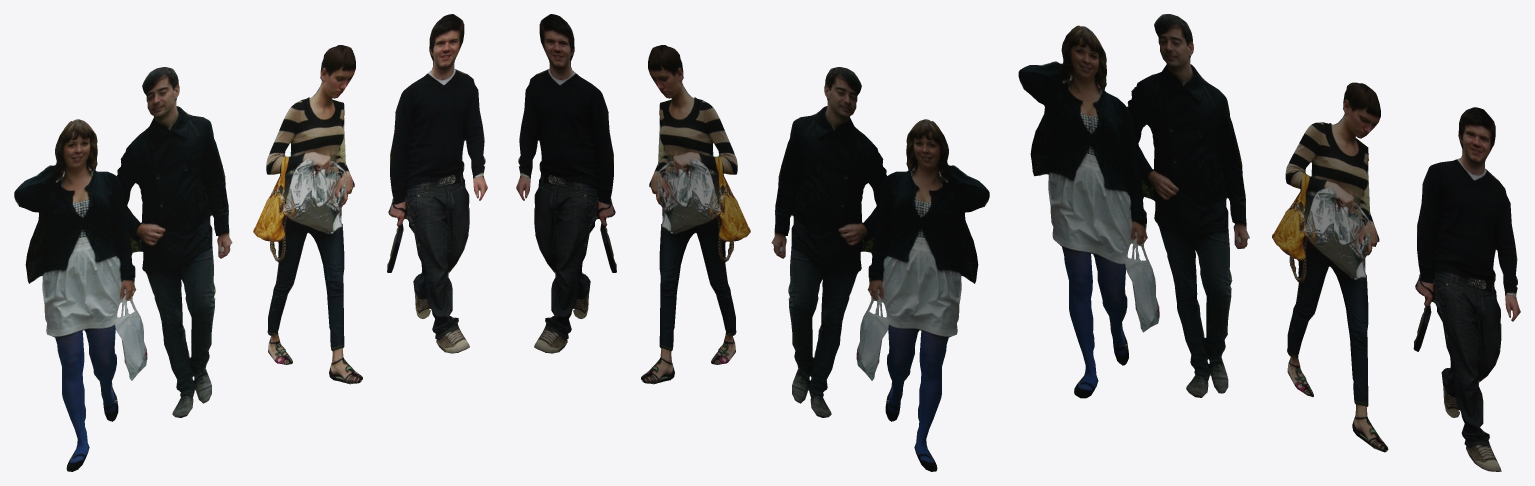
3 renders of one model, left to right at view 1: azimuth 30°, elevation 25°; view 2: azimuth 150°, elevation 25°; view 3: azimuth 330°, elevation 25°, orthographic. The views are drawn at different scales.
Visible parts, largest first — view 1: SketchUp (×3); view 2: SketchUp (×3); view 3: SketchUp (×3).
Part boxes in pixels (x1=…): SketchUp (×3): x1=14, y1=14, x2=487, y2=471; SketchUp (×3): x1=516, y1=14, x2=989, y2=471; SketchUp (×3): x1=1018, y1=14, x2=1520, y2=471.
Size of the model in its own units: 98.34 by 0 by 76.
Materials: 3 (3 with a texture image).
